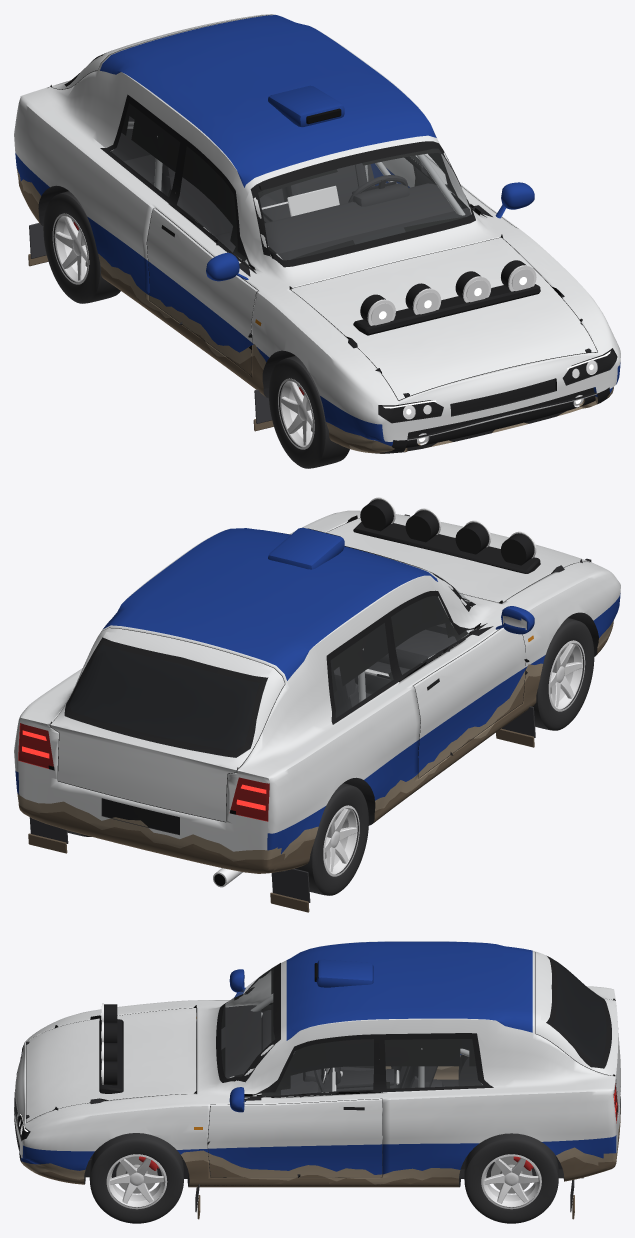
Rendered from kaze.glb.
The picture shows the model from 3 angles, top to bottom: view 1: azimuth 30°, elevation 25°; view 2: azimuth 150°, elevation 25°; view 3: azimuth 270°, elevation 25°; orthographic projection. The views are drawn at different scales.
Parts seen in each view (by area): view 1: body, bonnet_body, glass_windshield, interior, door_R_body, light_pod, wheel_FR_mesh, wheel_RR_mesh, door_R_glass_side_R, glass_side_R, roof_scoop, mud_flaps (+4 smaller); view 2: body, boot_body, door_R_body, bonnet_body, light_pod, wheel_RR_mesh, wheel_FR_mesh, glass_side_R, door_R_glass_side_R, mud_flaps, interior, roof_scoop (+1 smaller); view 3: body, door_L_body, bonnet_body, boot_body, wheel_FL_mesh, wheel_RL_mesh, interior, glass_side_L, door_L_glass_side_L, glass_windshield, light_pod, roof_scoop (+1 smaller).
Boxes of the visible parts, box(x1,y1,x2,y2) form: body: box(14, 14, 620, 453); bonnet_body: box(289, 234, 597, 400); glass_windshield: box(250, 141, 475, 267); interior: box(111, 116, 492, 276); door_R_body: box(147, 204, 257, 376); light_pod: box(353, 260, 540, 335); wheel_FR_mesh: box(269, 356, 349, 468); wheel_RR_mesh: box(43, 191, 120, 303); door_R_glass_side_R: box(169, 139, 256, 273); glass_side_R: box(100, 94, 184, 203); roof_scoop: box(268, 85, 344, 127); mud_flaps: box(28, 223, 273, 431); body: box(14, 510, 620, 873); boot_body: box(48, 628, 284, 821); door_R_body: box(399, 623, 529, 778); bonnet_body: box(326, 514, 590, 603); light_pod: box(353, 497, 540, 573); wheel_RR_mesh: box(295, 783, 368, 895); wheel_FR_mesh: box(532, 618, 594, 730); glass_side_R: box(326, 614, 399, 724); door_R_glass_side_R: box(387, 590, 487, 680); mud_flaps: box(28, 706, 535, 912); interior: box(283, 623, 493, 871); roof_scoop: box(268, 527, 344, 569); body: box(14, 941, 620, 1187); door_L_body: box(207, 1091, 382, 1177); bonnet_body: box(26, 1005, 196, 1122); boot_body: box(535, 951, 620, 1114); wheel_FL_mesh: box(89, 1133, 183, 1223); wheel_RL_mesh: box(464, 1133, 558, 1223); interior: box(221, 1005, 583, 1178); glass_side_L: box(378, 1033, 493, 1092); door_L_glass_side_L: box(244, 1034, 381, 1097); glass_windshield: box(216, 963, 280, 1082); light_pod: box(99, 1003, 123, 1093); roof_scoop: box(314, 959, 373, 987).
Size of the model in its own units: 2.08 by 1.49 by 4.05.
